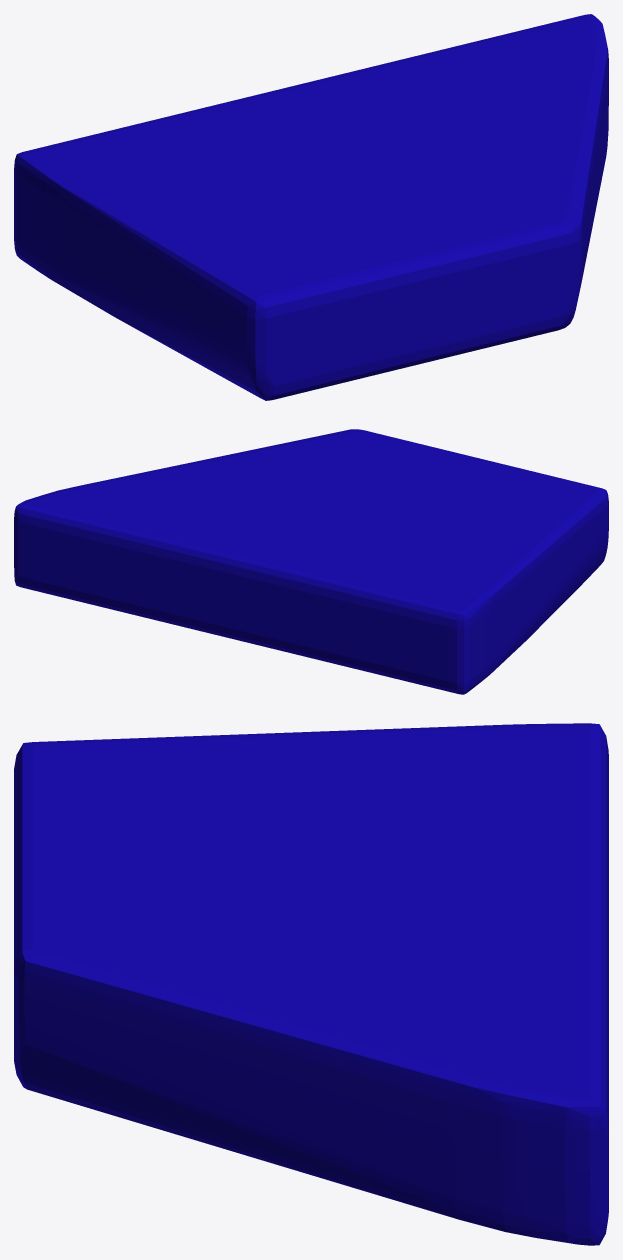
Rendered from right_shoulder_yaw_link_part_5.obj.
The picture shows the model from 3 angles, top to bottom: view 1: azimuth 30°, elevation 25°; view 2: azimuth 150°, elevation 25°; view 3: azimuth 270°, elevation 25°; orthographic projection. The views are drawn at different scales.
Bounding box in the file's own units: 0.0976 × 0.0168 × 0.0633.
